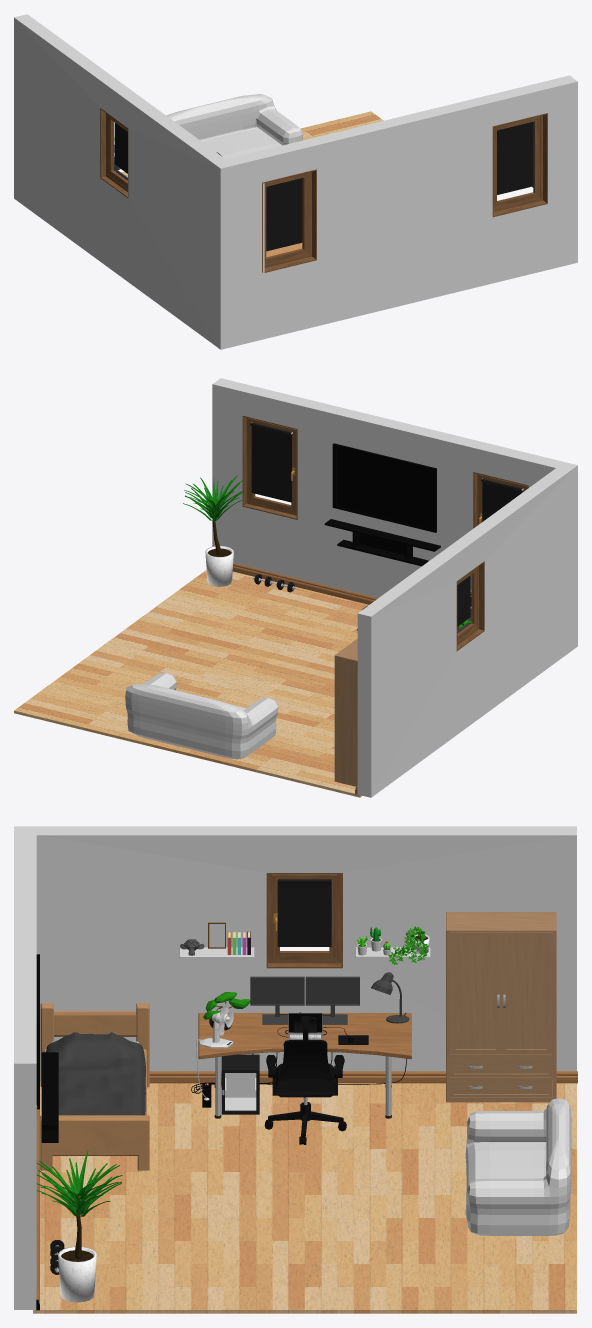
Rendered from Room.fbx.
3 views of the same model, one above another, from view 1: azimuth 30°, elevation 25°; view 2: azimuth 150°, elevation 25°; view 3: azimuth 270°, elevation 25° (orthographic). The views are drawn at different scales.
Visible parts, largest first — view 1: Plane.015, Cube.033, Black Blinds.002, Black Blinds.001, Window.001, Window, Plane.016, Window.002, Black Blinds, Plane.022, Plane.023; view 2: Plane.015, Plane.016, Cube.033, Cube.032, Wardrobe, Black Blinds.001, Cube.051, Cube.049, Window.001, Leaf.034, Standing plant, Black Blinds.002 (+2 smaller); view 3: Plane.015, Plane.016, Cube.033, Plane.014, Door Top 1, Door Top 1.002, Desk, Wardrobe, Cube.019, Black Blinds, Chair top.001, Cube.048 (+17 smaller).
Boxes of the visible parts, bbox=[...] form: Plane.015: bbox=[14, 14, 577, 349]; Cube.033: bbox=[166, 94, 302, 158]; Black Blinds.002: bbox=[266, 178, 302, 251]; Black Blinds.001: bbox=[497, 122, 533, 194]; Window.001: bbox=[493, 116, 539, 208]; Window: bbox=[264, 172, 309, 264]; Plane.016: bbox=[121, 111, 383, 257]; Window.002: bbox=[107, 114, 127, 188]; Black Blinds: bbox=[114, 123, 127, 173]; Plane.022: bbox=[312, 170, 316, 259]; Plane.023: bbox=[543, 114, 547, 202]; Plane.015: bbox=[212, 378, 577, 797]; Plane.016: bbox=[14, 570, 368, 797]; Cube.033: bbox=[125, 673, 278, 759]; Cube.032: bbox=[332, 443, 436, 532]; Wardrobe: bbox=[334, 639, 357, 786]; Black Blinds.001: bbox=[251, 425, 291, 502]; Cube.051: bbox=[324, 519, 440, 566]; Cube.049: bbox=[232, 563, 378, 604]; Window.001: bbox=[248, 418, 296, 513]; Leaf.034: bbox=[183, 475, 243, 521]; Standing plant: bbox=[205, 546, 233, 586]; Black Blinds.002: bbox=[482, 482, 522, 521]; Plane.015: bbox=[14, 826, 576, 1309]; Plane.016: bbox=[33, 1081, 576, 1313]; Cube.033: bbox=[465, 1098, 571, 1235]; Plane.014: bbox=[46, 1032, 145, 1115]; Door Top 1: bbox=[450, 932, 501, 1053]; Door Top 1.002: bbox=[501, 932, 552, 1053]; Desk: bbox=[198, 1013, 411, 1059]; Wardrobe: bbox=[446, 912, 556, 1102]; Cube.019: bbox=[40, 1115, 149, 1170]; Black Blinds: bbox=[277, 883, 331, 946]; Chair top.001: bbox=[276, 1040, 334, 1097]; Cube.048: bbox=[149, 1071, 577, 1083].
Bounding box in the file's own units: 605 × 291 × 595.
Materials: 62 (18 with a texture image).
